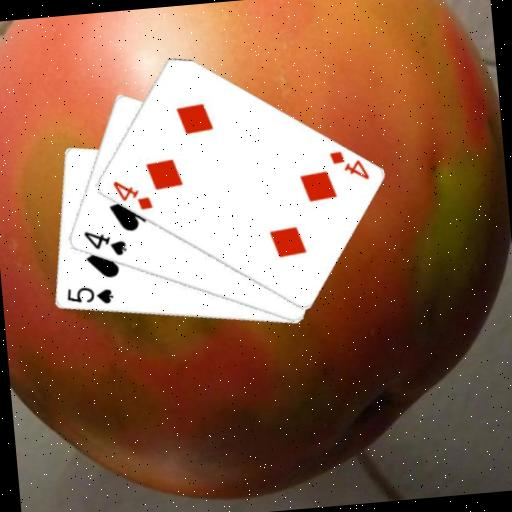4D: (108, 175, 154, 215), (325, 145, 371, 185)
4S: (80, 225, 129, 260)
5S: (63, 281, 116, 309)
